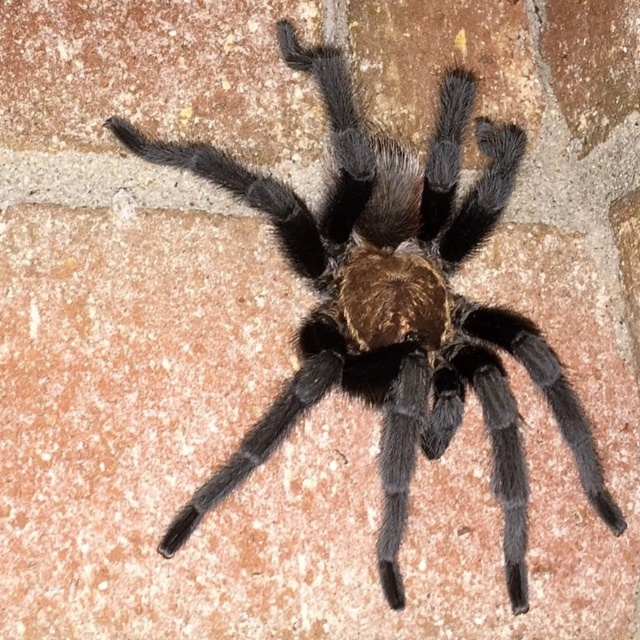Spider: (102, 19, 628, 616)
